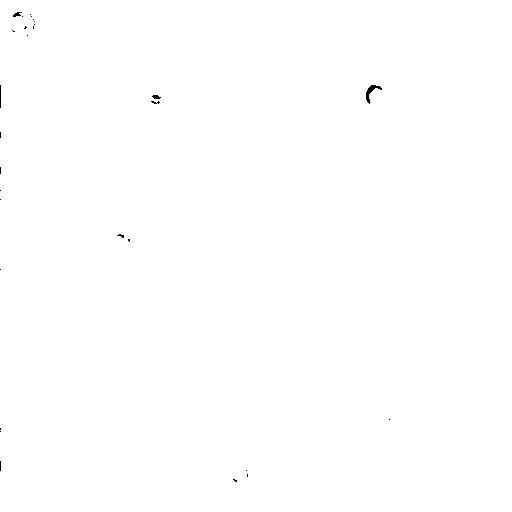micro-algae: (4, 6, 35, 39), (0, 431, 30, 465), (365, 397, 397, 425), (111, 229, 135, 251), (367, 82, 383, 108), (500, 323, 511, 358), (228, 465, 247, 485), (1, 134, 13, 165)
